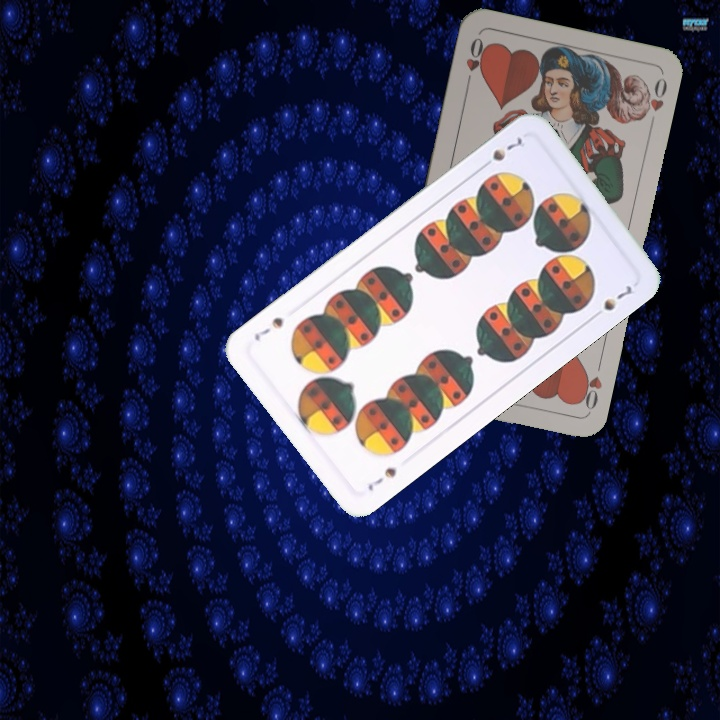HO: (574, 356, 605, 413), (461, 33, 490, 91)
S7: (476, 133, 526, 172), (363, 463, 399, 494)
